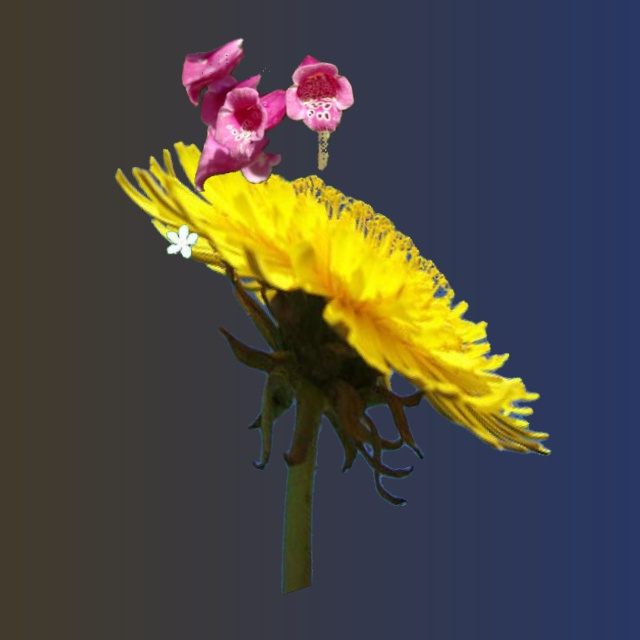dandelion: (115, 141, 550, 594)
foxglove: (182, 38, 354, 191)
jasmine: (166, 224, 197, 258)
